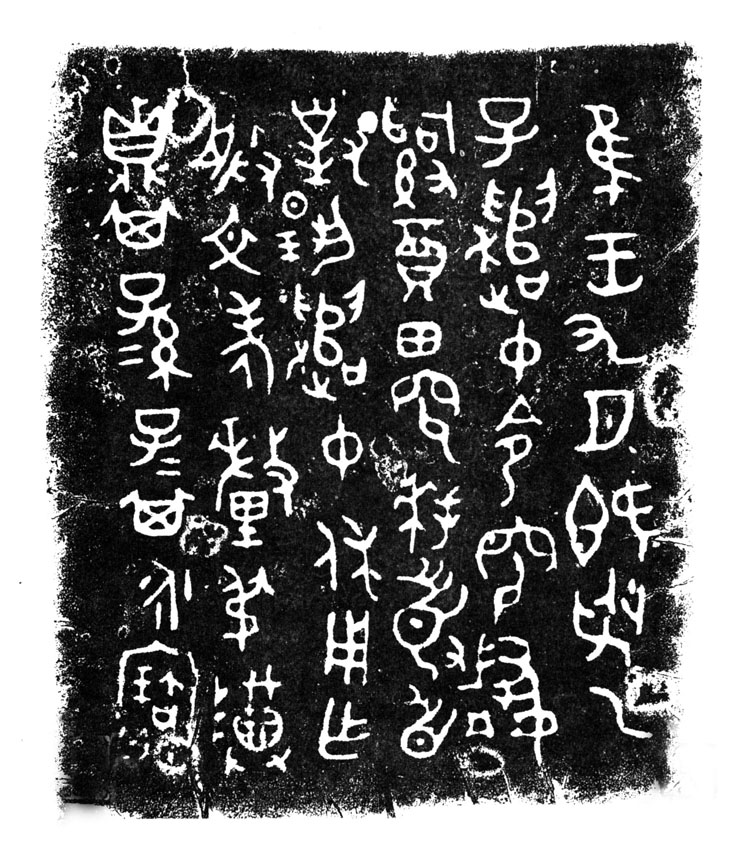char: (435, 633, 570, 807), (79, 261, 202, 402), (350, 72, 470, 211), (459, 173, 568, 324), (95, 650, 211, 788), (198, 415, 295, 569), (198, 675, 316, 786), (262, 294, 383, 399), (556, 481, 696, 570), (568, 88, 660, 219), (460, 508, 576, 611), (550, 578, 677, 667), (253, 193, 366, 290), (259, 76, 350, 189), (85, 91, 184, 194), (579, 679, 709, 757), (167, 89, 261, 194), (195, 297, 276, 406), (296, 515, 399, 599), (380, 380, 472, 470), (480, 398, 556, 506), (463, 89, 559, 172), (125, 549, 216, 636), (562, 385, 660, 465), (300, 607, 388, 696), (559, 313, 681, 377), (370, 223, 459, 309), (187, 202, 284, 280), (382, 472, 468, 553), (106, 410, 192, 489), (458, 322, 573, 378), (400, 554, 454, 671), (309, 399, 376, 493), (570, 225, 652, 301), (384, 698, 460, 780), (313, 698, 382, 784), (212, 579, 286, 657), (98, 202, 191, 252), (103, 499, 211, 540), (382, 326, 460, 365)
